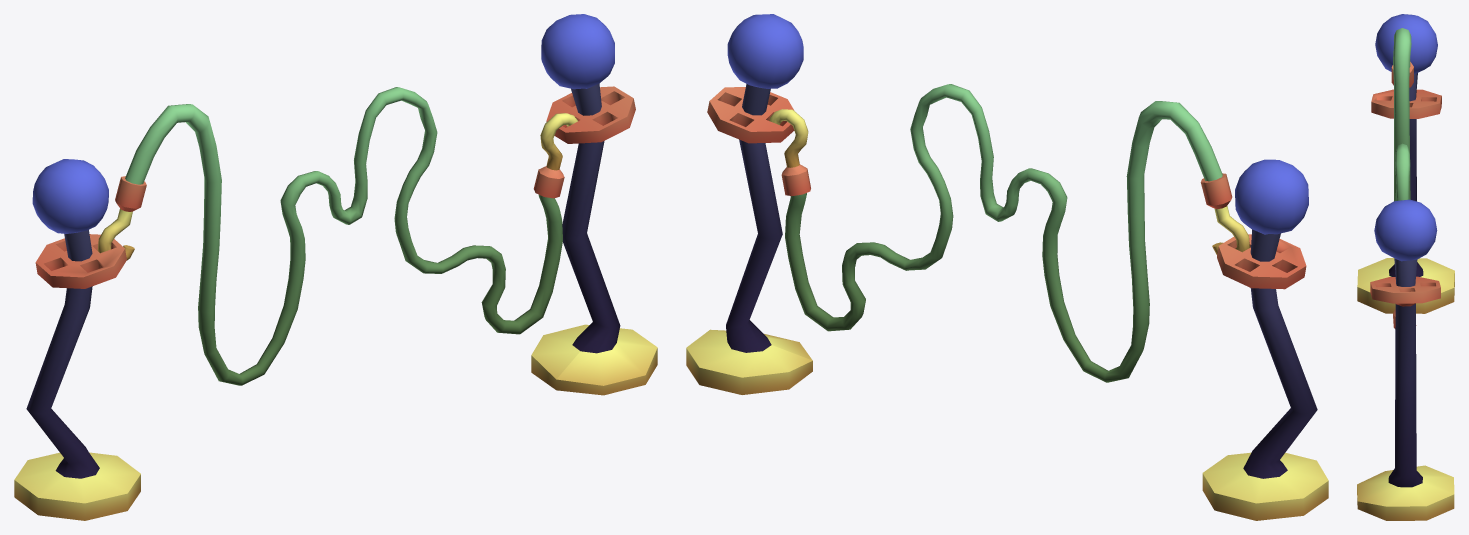
Rendered from Valla.fbx.
The picture shows the model from 3 angles, left to right: view 1: azimuth 30°, elevation 25°; view 2: azimuth 150°, elevation 25°; view 3: azimuth 270°, elevation 25°; orthographic projection. The views are drawn at different scales.
Parts seen in each view (by area): view 1: VALLA; view 2: VALLA; view 3: VALLA.
Part boxes in pixels (x1,y1,x2,y2): VALLA: [14, 14, 657, 520]; VALLA: [686, 14, 1328, 520]; VALLA: [1357, 14, 1454, 520].
Size of the model in its own units: 1053 by 598 by 176.
